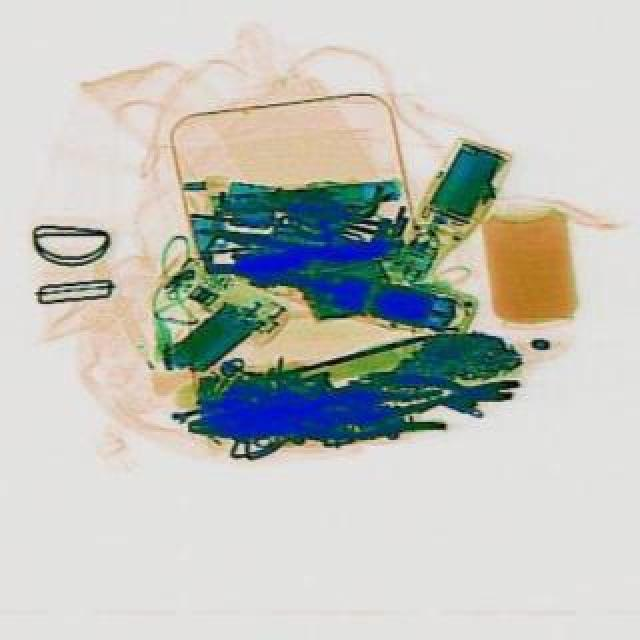wrench: (358, 368, 518, 416)
